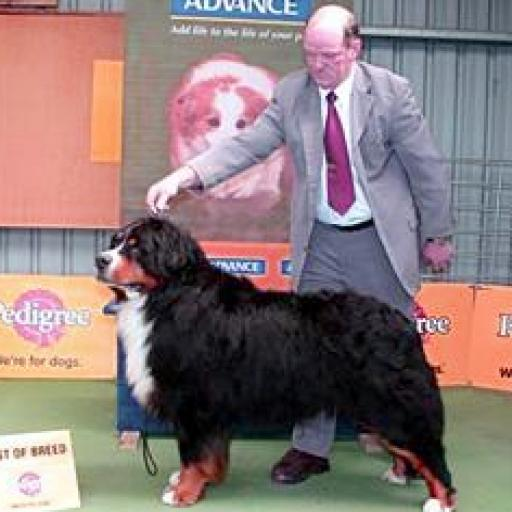dog_face: (96, 214, 196, 319)
